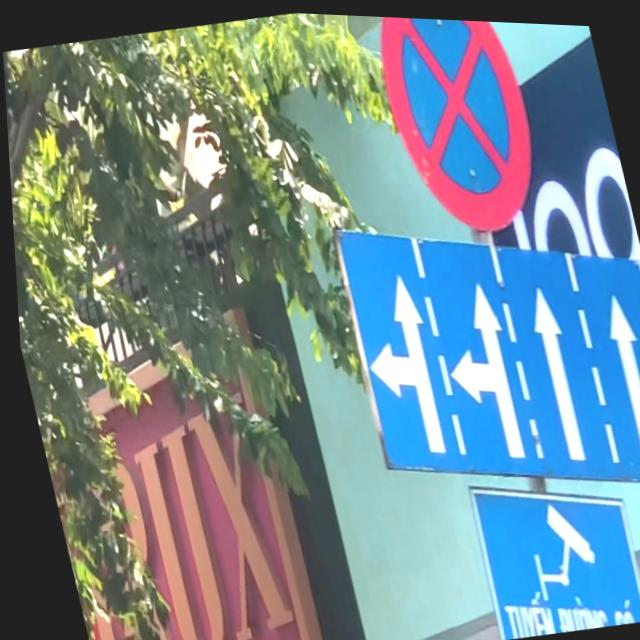Cam dung xe va do xe: (366, 13, 550, 241)
